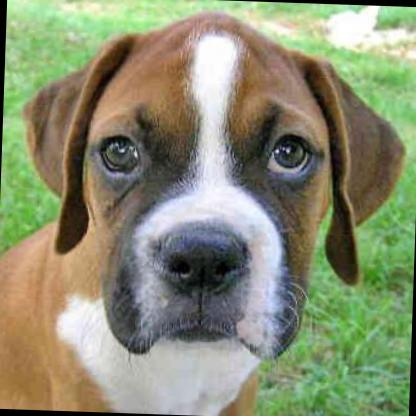boxer: (0, 10, 409, 416)
